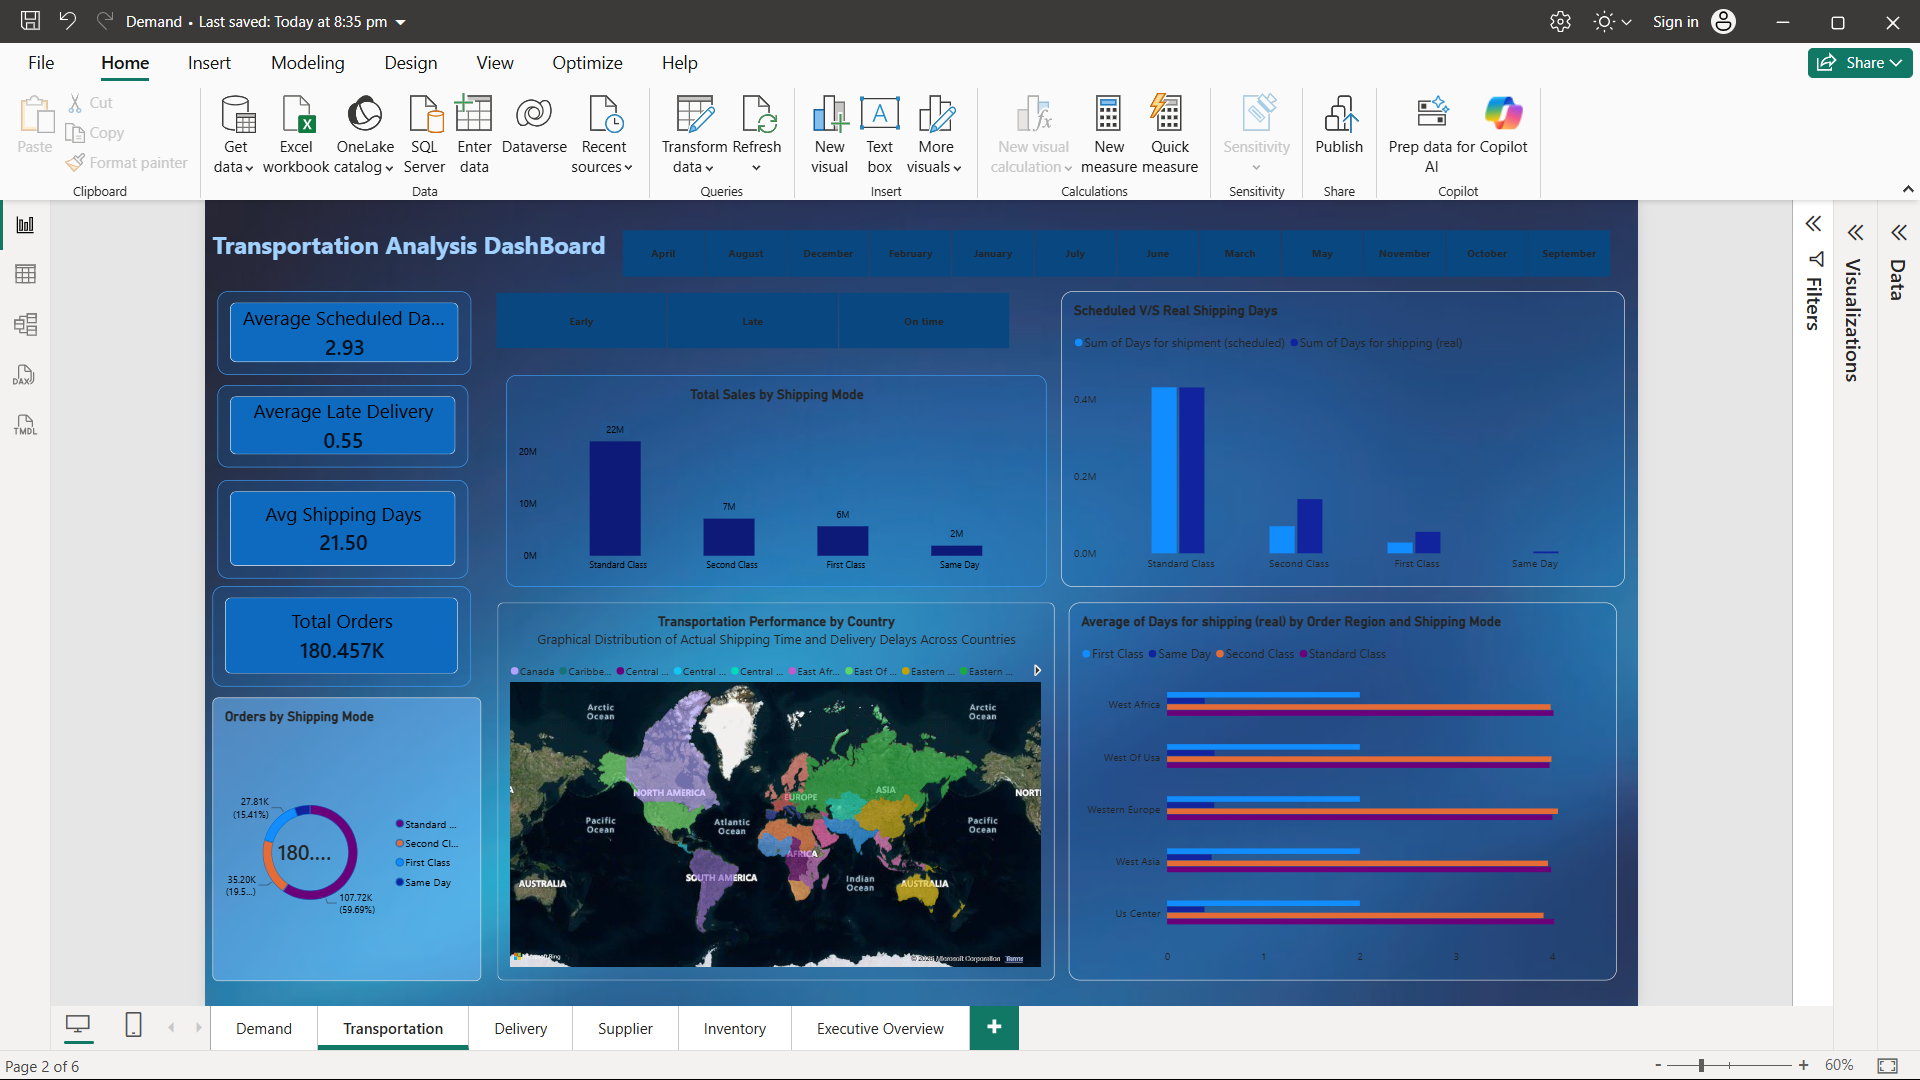

This screenshot's page, from the dashboard's own definition file:
{"tool":"powerbi","page":{"name":"Page 2","canvas":[1920,1080],"ordinal":1},"visuals":[{"type":"textbox","box":[10,38,548,66],"z":0},{"type":"clusteredColumnChart","title":"Scheduled V/S Real Shipping Days","fields":{"Category":["Cleaned_Supply_chain(csv).Shipping Mode"],"Y":["Sum(Cleaned_Supply_chain(csv).Days for shipment (scheduled))","Sum(Cleaned_Supply_chain(csv).Days for shipping (real))"]},"box":[1148,122,754.8,395.9],"z":1000},{"type":"filledMap","title":"Transportation Performance by Country","fields":{"Category":["Cleaned_Supply_chain(csv).Order Country"],"Series":["Cleaned_Supply_chain(csv).Order Region"]},"box":[392,540,746,506],"z":2000},{"type":"clusteredBarChart","fields":{"Category":["Cleaned_Supply_chain(csv).Order Region"],"Series":["Cleaned_Supply_chain(csv).Shipping Mode"],"Y":["Avg(Cleaned_Supply_chain(csv).Days for shipping (real))"]},"box":[1158,540,734,506],"z":3000},{"type":"donutChart","title":"Orders by Shipping Mode","fields":{"Category":["Cleaned_Supply_chain(csv).Shipping Mode"],"Y":["CountNonNull(Cleaned_Supply_chain(csv).Order Id)"]},"box":[10,666,360,380],"z":4000},{"type":"clusteredColumnChart","title":"Total Sales by Shipping Mode","fields":{"Category":["Cleaned_Supply_chain(csv).Shipping Mode"],"Y":["Sum(Cleaned_Supply_chain(csv).Sales)"]},"box":[404,234,724,284],"z":5000},{"type":"cardVisual","fields":{"Data":["Sum(Transportation_analysis.avd_shipping_days)"]},"box":[16,376,336,132],"z":6000},{"type":"cardVisual","fields":{"Data":["CountNonNull(Cleaned_Supply_chain(csv).Order Id)"]},"box":[10,518,346,134],"z":7000},{"type":"cardVisual","fields":{"Data":["Avg(Cleaned_Supply_chain(csv).Late Delivery Risk)"]},"box":[16,248,336,110],"z":8000},{"type":"cardVisual","fields":{"Data":["Avg(Cleaned_Supply_chain(csv).Days for shipment (scheduled))"]},"box":[16,122,340,112],"z":9000},{"type":"slicer","fields":{"Values":["Cleaned_Supply_chain(csv).Order Month Name"]},"box":[540,38,1362,66],"z":10000},{"type":"slicer","fields":{"Values":["Cleaned_Supply_chain(csv).Shipping Performance"]},"box":[370,122,726,78],"z":11000}]}

Visuals, with their boxes on the page's 1920x1080 design canvas (x1, y1, x2, y2). These are canvas units, not pixel positions in the 1920x1080 screenshot, which may show the page scaled, cropped or inside an application window:
textbox: [10, 38, 558, 104]
"Scheduled V/S Real Shipping Days" clusteredColumnChart: [1148, 122, 1903, 518]
"Transportation Performance by Country" filledMap: [392, 540, 1138, 1046]
clusteredBarChart - Cleaned_Supply_chain(csv).Order Region x Cleaned_Supply_chain(csv).Shipping Mode: [1158, 540, 1892, 1046]
"Orders by Shipping Mode" donutChart: [10, 666, 370, 1046]
"Total Sales by Shipping Mode" clusteredColumnChart: [404, 234, 1128, 518]
cardVisual - Sum(Transportation_analysis.avd_shipping_days): [16, 376, 352, 508]
cardVisual - CountNonNull(Cleaned_Supply_chain(csv).Order Id): [10, 518, 356, 652]
cardVisual - Avg(Cleaned_Supply_chain(csv).Late Delivery Risk): [16, 248, 352, 358]
cardVisual - Avg(Cleaned_Supply_chain(csv).Days for shipment (scheduled)): [16, 122, 356, 234]
slicer - Cleaned_Supply_chain(csv).Order Month Name: [540, 38, 1902, 104]
slicer - Cleaned_Supply_chain(csv).Shipping Performance: [370, 122, 1096, 200]
